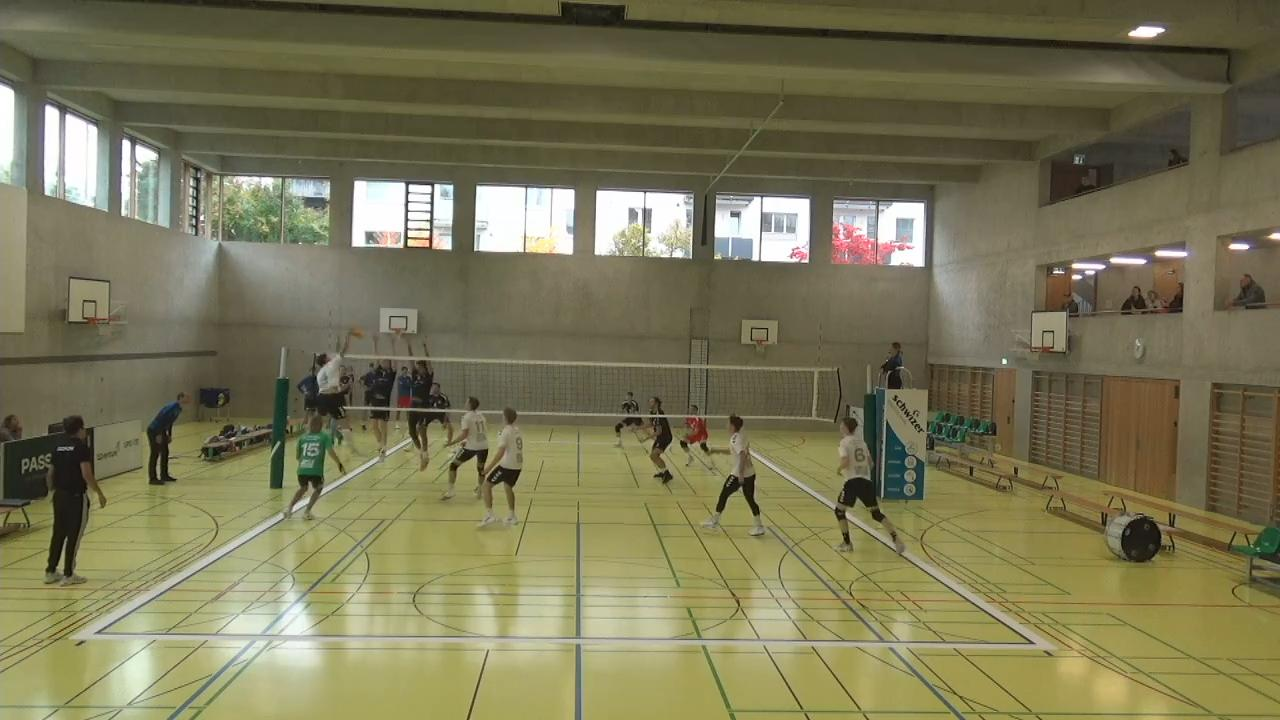Attack: (297, 329, 360, 454)
Block: (402, 326, 446, 478), (361, 323, 401, 476)
Player: (833, 415, 905, 551), (704, 413, 762, 535), (286, 411, 347, 523), (479, 407, 527, 530), (441, 396, 489, 503), (645, 394, 678, 485), (417, 379, 455, 446), (678, 407, 714, 469), (616, 391, 645, 449)
ball: (344, 325, 361, 340)
